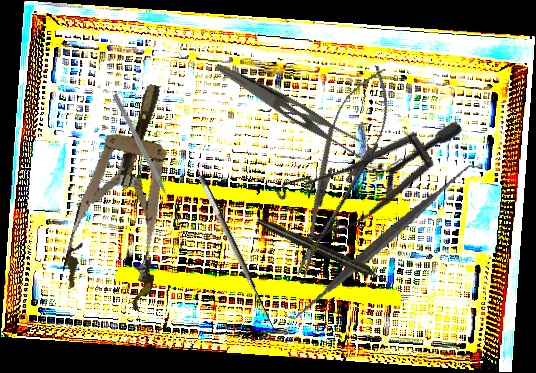Dressing Forceps: (206, 62, 372, 161)
Handpiece: (255, 215, 391, 287)
Hook Surgical: (195, 168, 291, 339)
Needle Holder: (275, 57, 405, 286)
Pusher: (111, 93, 176, 212)
Spatula Surgical: (285, 138, 481, 345)
Speculum: (257, 58, 465, 284), (57, 74, 200, 313)
